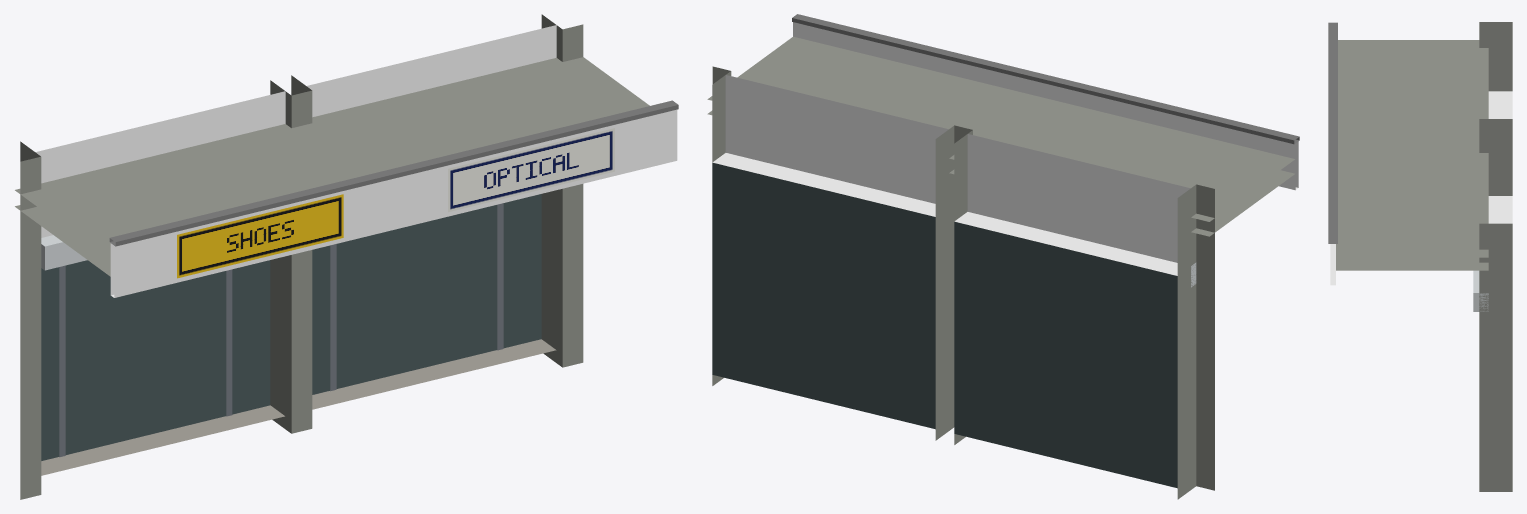
3 views of the same model, side by side, from view 1: azimuth 30°, elevation 25°; view 2: azimuth 150°, elevation 25°; view 3: azimuth 270°, elevation 25° (orthographic). The views are drawn at different scales.
Visible parts, largest first — view 1: a2006/250/base-w3; view 2: a2006/250/base-w3; view 3: a2006/250/base-w3.
Boxes of the visible parts, x1,y1,x2,y2 form: a2006/250/base-w3: [15, 14, 678, 499]; a2006/250/base-w3: [707, 14, 1299, 499]; a2006/250/base-w3: [1328, 22, 1512, 491].
Size of the model in its own units: 5.4 by 3.1 by 1.93.
